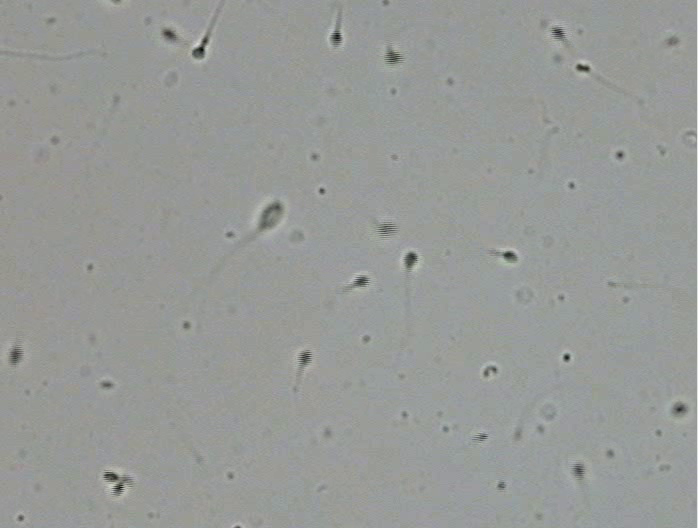S: (258, 200, 285, 229), (376, 222, 398, 238), (384, 49, 404, 66), (8, 346, 24, 365), (297, 349, 312, 367), (403, 251, 418, 268), (352, 275, 371, 288), (571, 461, 585, 478), (329, 30, 342, 48), (550, 26, 566, 40), (192, 45, 206, 60), (111, 482, 125, 497), (503, 250, 518, 264), (162, 28, 177, 41), (103, 471, 119, 483), (673, 403, 687, 416), (575, 63, 590, 73)
